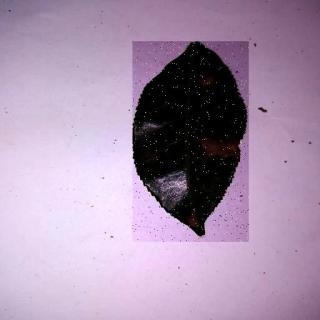Anthracnose: (134, 43, 250, 243)
